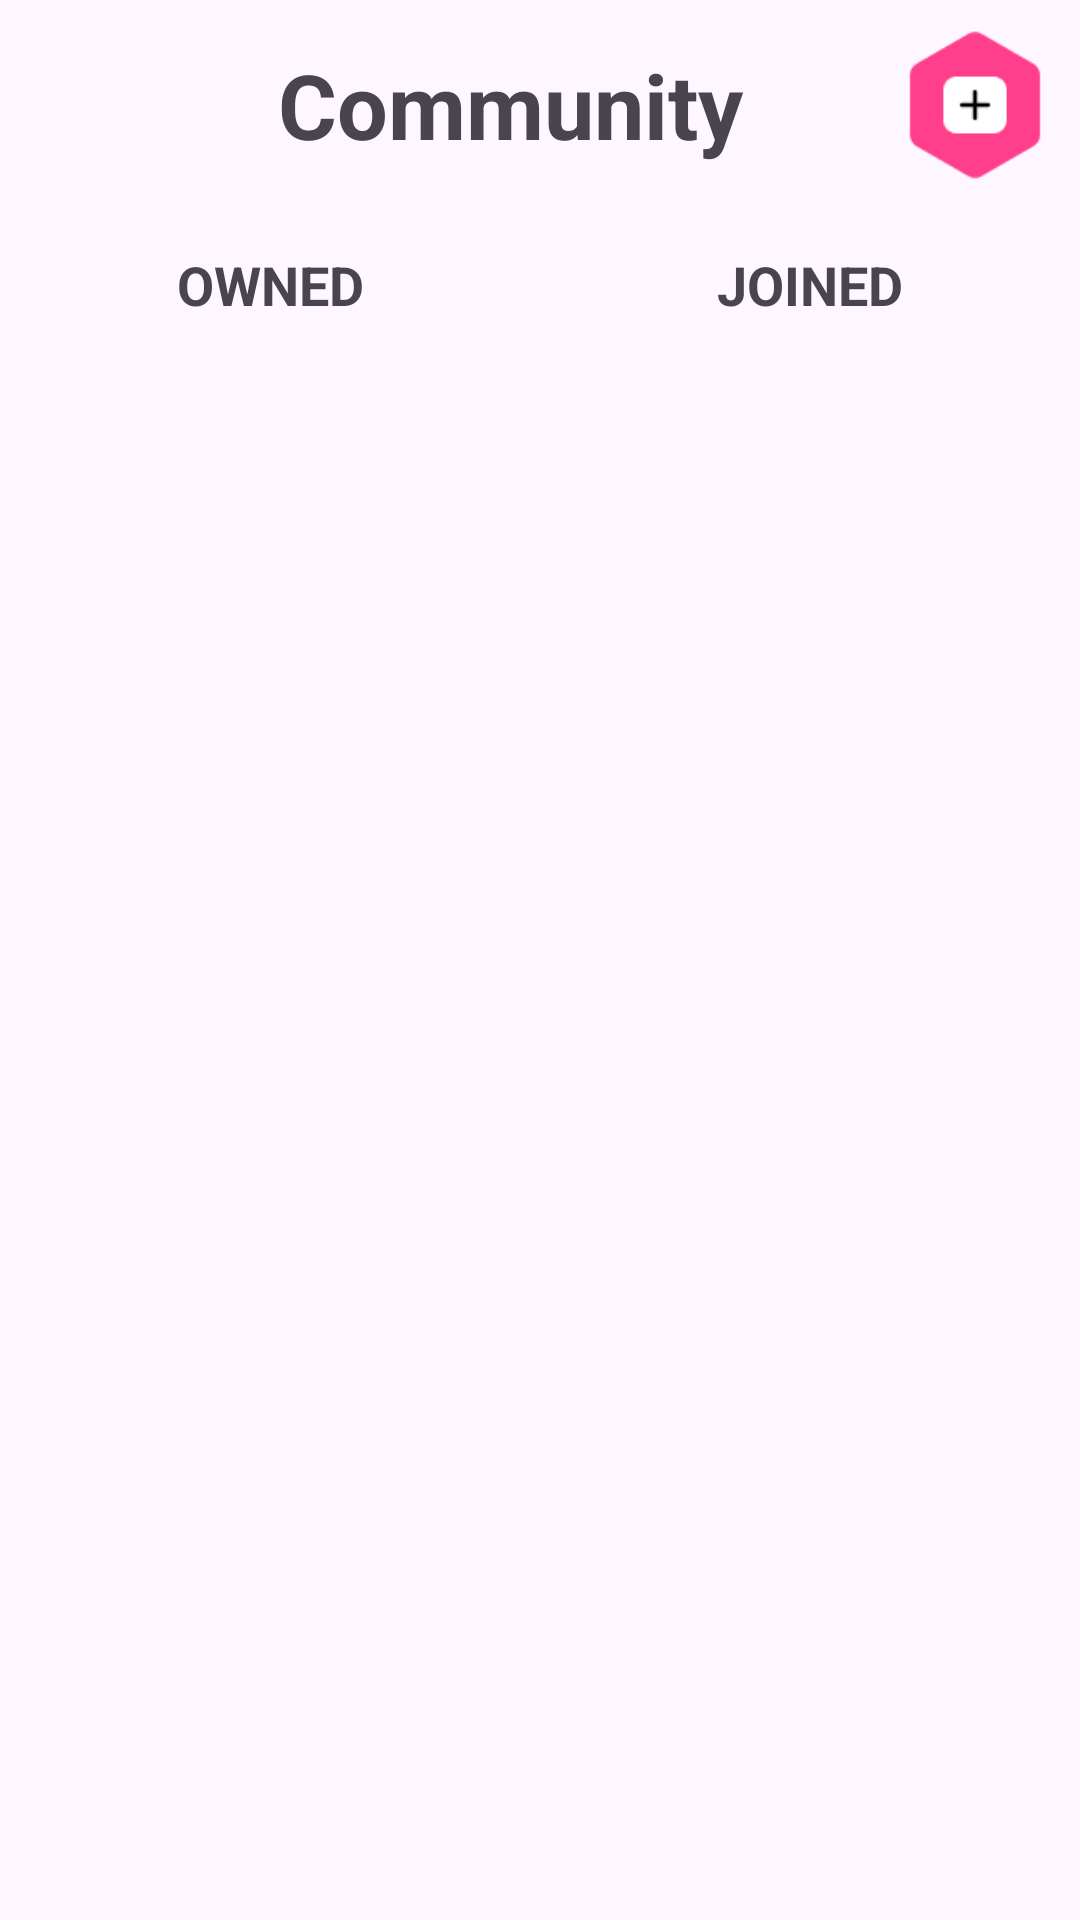

Icon bounding boxes for this 1080px×1920px phone screenshot, format (x1, y1, x2, y2):
create post: (909, 31, 1041, 179)
